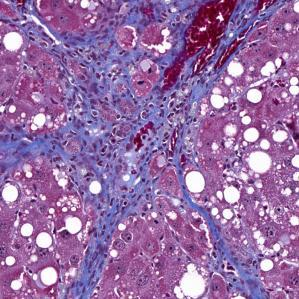fibrosis: (43, 105, 192, 198), (56, 43, 159, 115)
